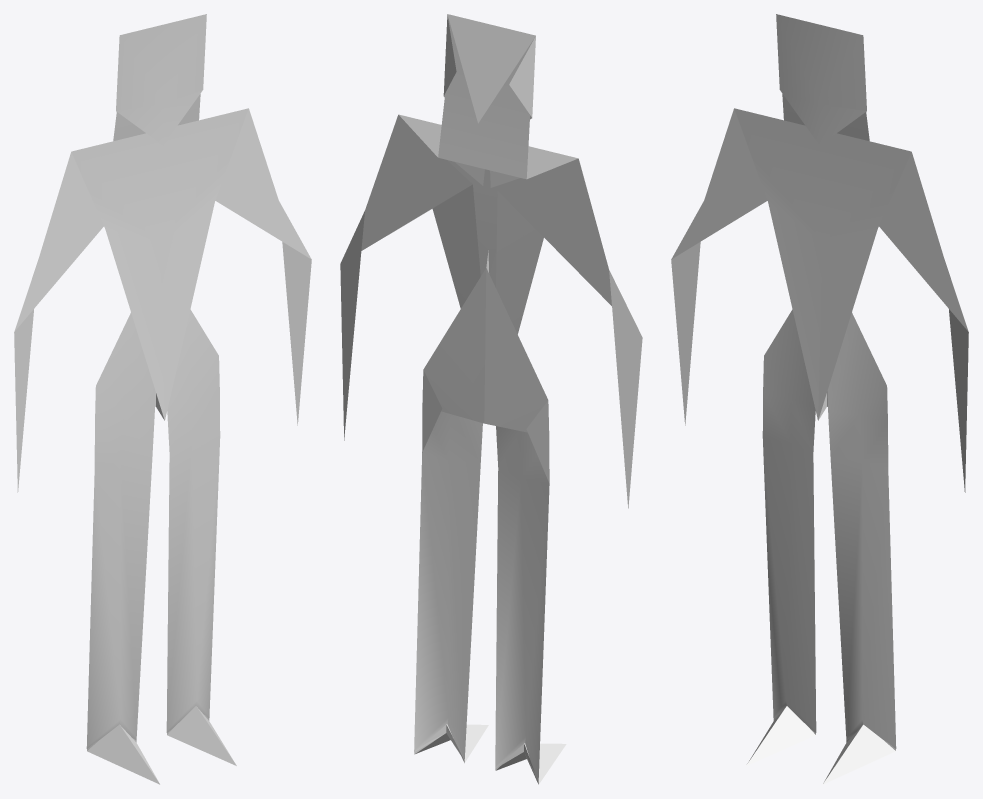
File: SM_HumanoOrigami.fbx
3 renders of one model, left to right at view 1: azimuth 30°, elevation 25°; view 2: azimuth 150°, elevation 25°; view 3: azimuth 330°, elevation 25°, orthographic.
Visible parts, largest first — view 1: Plane.001; view 2: Plane.001; view 3: Plane.001.
Part boxes in pixels (x1=…): Plane.001: x1=14, y1=14, x2=311, y2=784; Plane.001: x1=340, y1=14, x2=642, y2=784; Plane.001: x1=671, y1=14, x2=968, y2=784.
Size of the model in its own units: 11.16 by 25.97 by 3.29.
